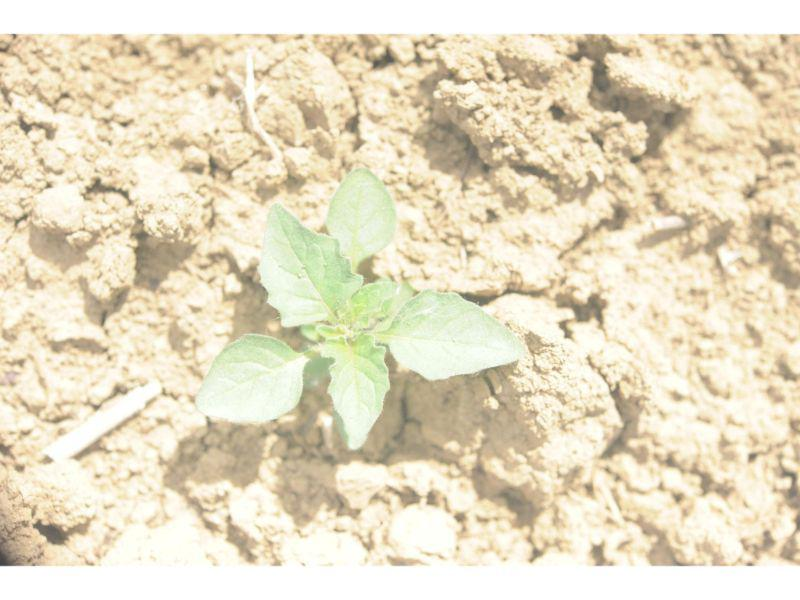nightshade: (196, 167, 519, 447)
